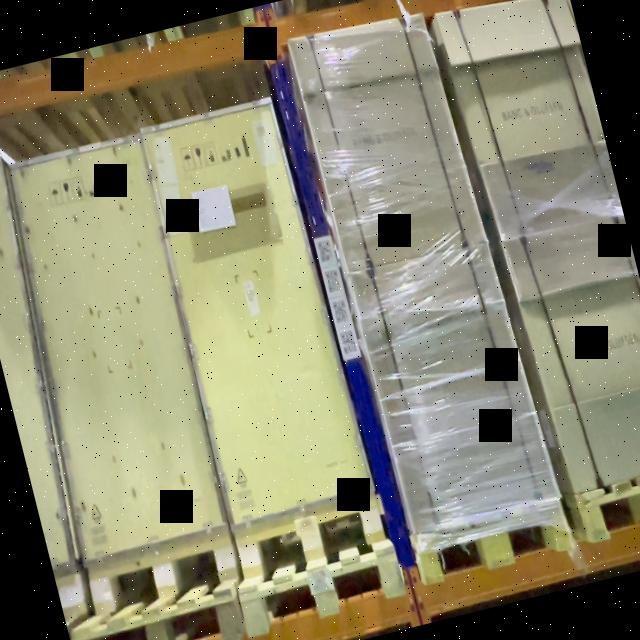box: (142, 100, 367, 522), (11, 144, 224, 550), (357, 252, 552, 526), (294, 15, 481, 274)
